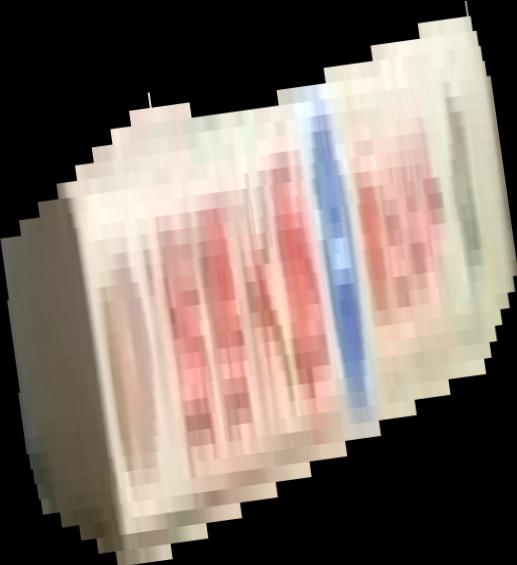flat: (1, 1, 517, 565)
